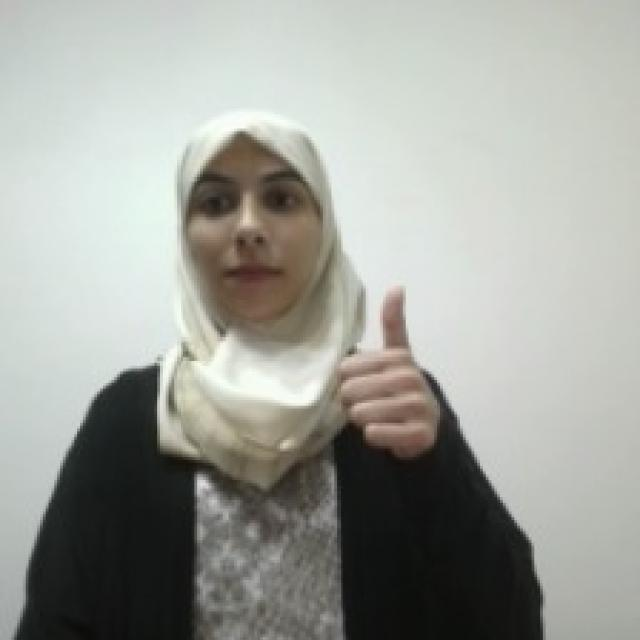fine: (334, 278, 444, 461)
